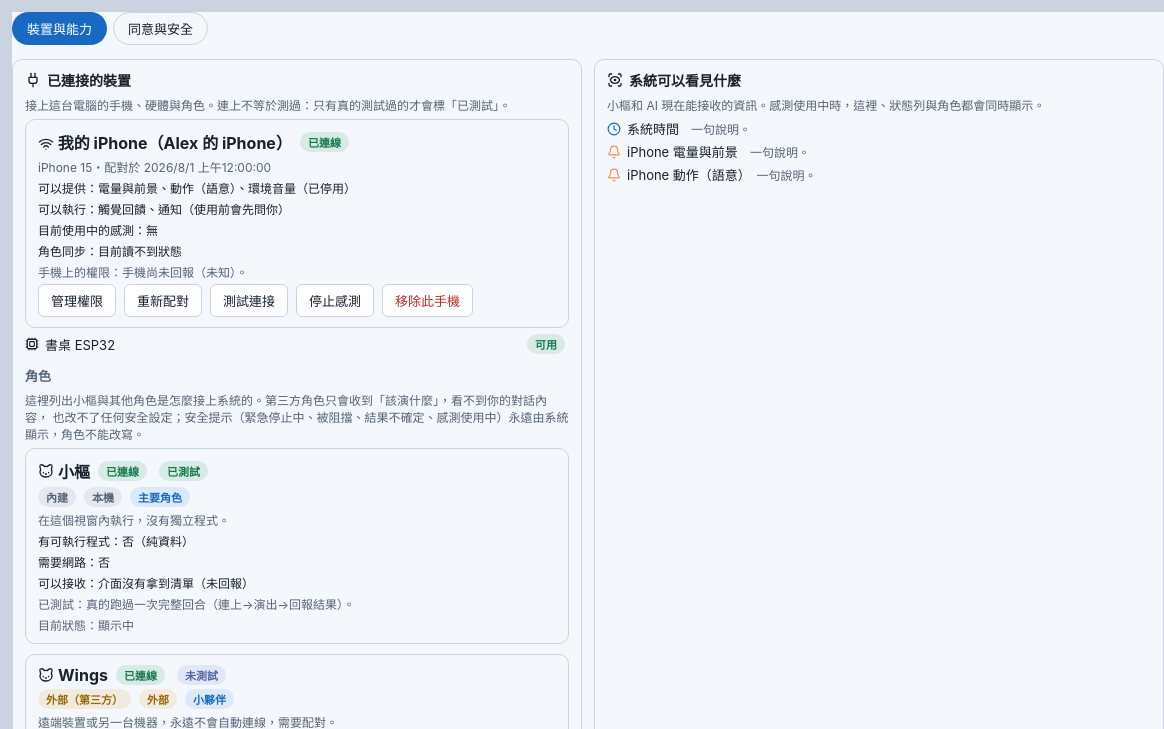
it: 連接與權限：第一層五區（裝置優先） › 停止感測：只說「已要求停止」，不得從送出就說已停止；送不到就說未送達
Click the button "停止感測". click: [335, 300]
box: [296, 284, 374, 317]
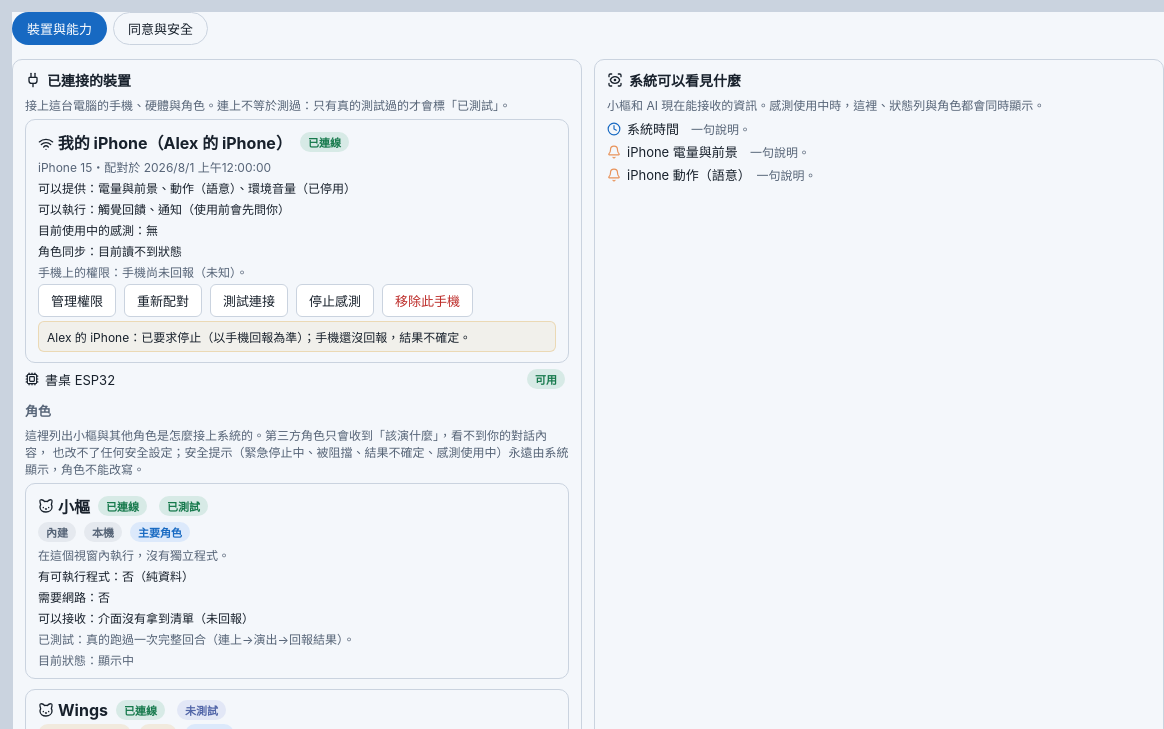
Expected: the text "Alex 的 iPhone：已要求停止（以手機回報為準）；手機還沒回報，結果不確定。" is shown, [38, 321, 556, 352]
Click the button "停止感測". click: [335, 300]
box: [296, 284, 374, 317]
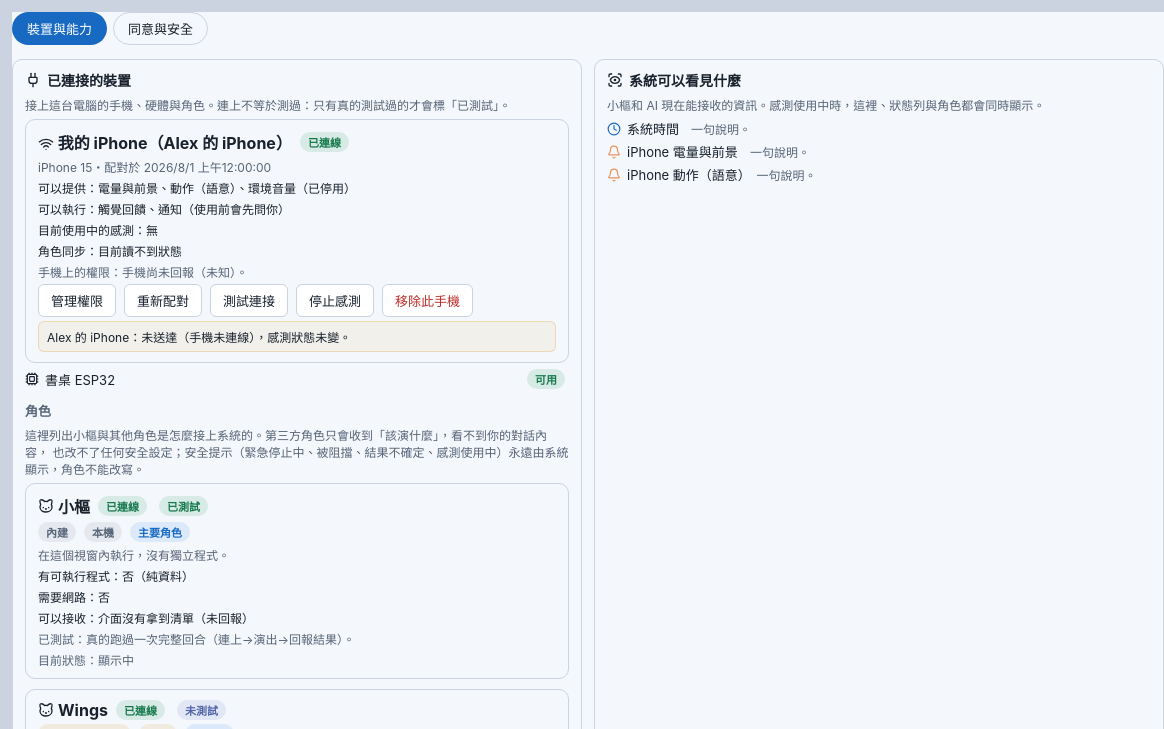
Expected: the text "Alex 的 iPhone：未送達（手機未連線），感測狀態未變。" is shown, [38, 321, 556, 352]
